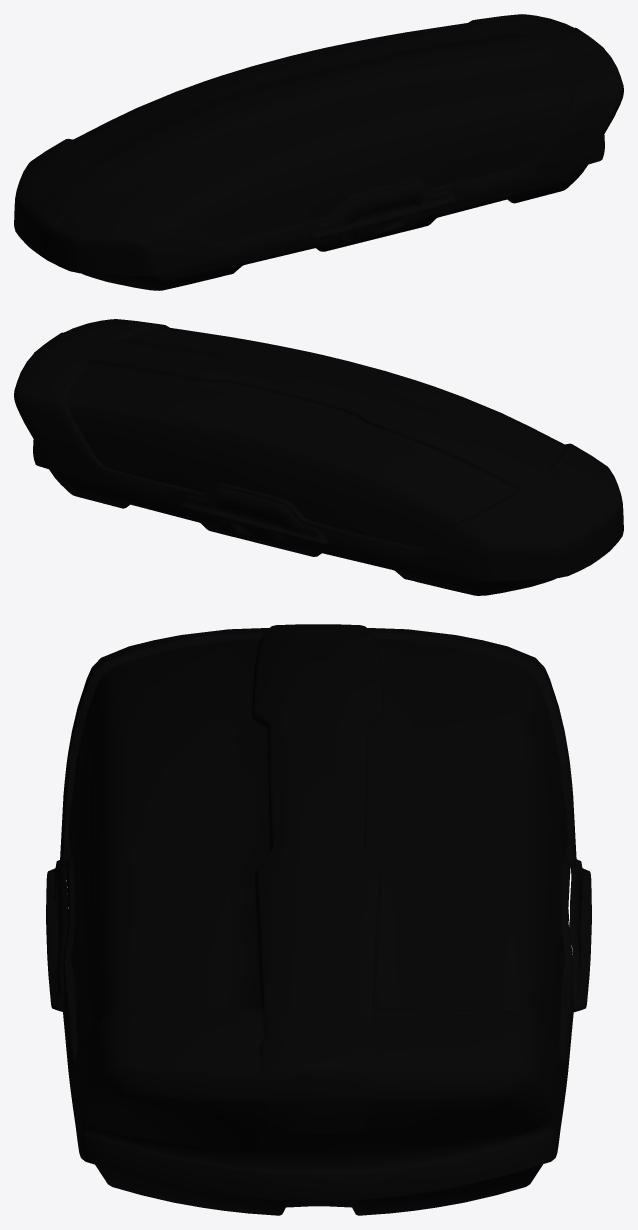
File: ground.glb
3 renders of one model, top to bottom at view 1: azimuth 30°, elevation 25°; view 2: azimuth 150°, elevation 25°; view 3: azimuth 270°, elevation 25°, orthographic. The views are drawn at different scales.
Visible parts, largest first — view 1: XT_XL_low; view 2: XT_XL_low; view 3: XT_XL_low.
Part boxes in pixels (x1,y1,x2,y2): XT_XL_low: (14, 14, 623, 290); XT_XL_low: (14, 319, 623, 595); XT_XL_low: (46, 624, 591, 1215).
Bounding box in the file's own units: 2.14 × 0.4395 × 0.9098.
2 materials, 2 textured.
